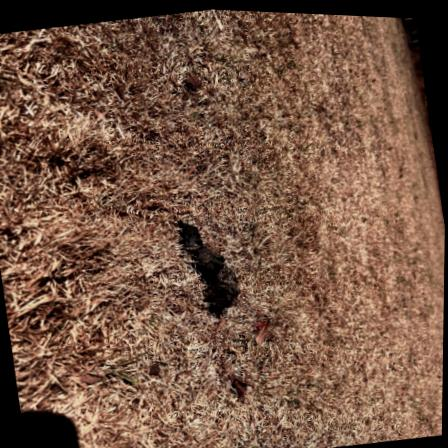dog-poop: (175, 205, 252, 329)
